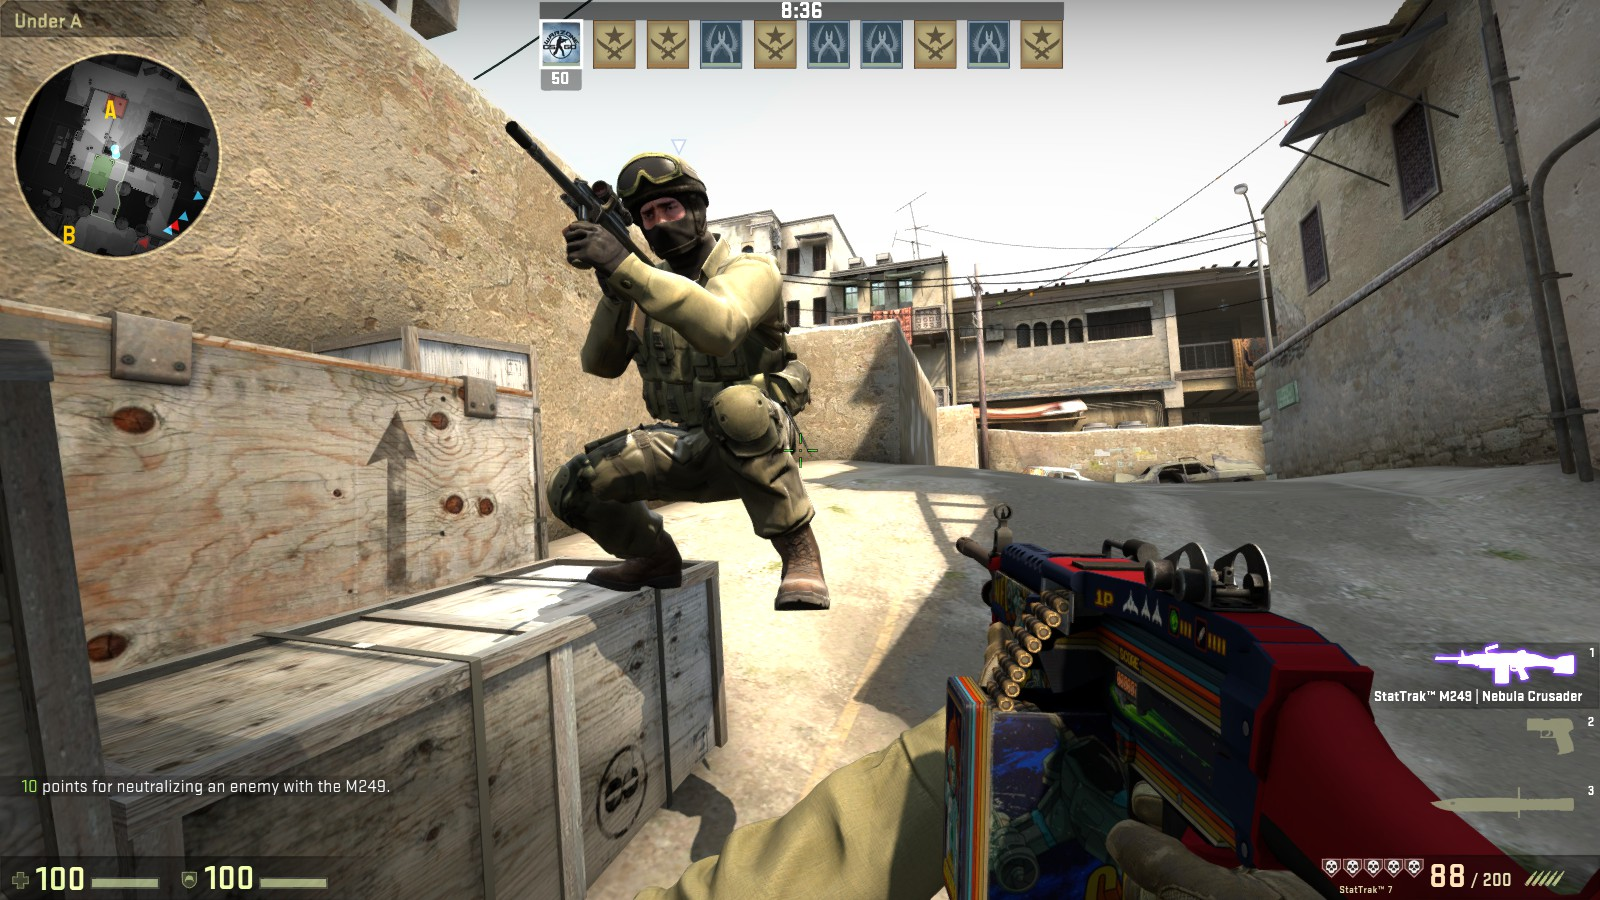c: (569, 141, 818, 596)
ch: (604, 144, 725, 268)
